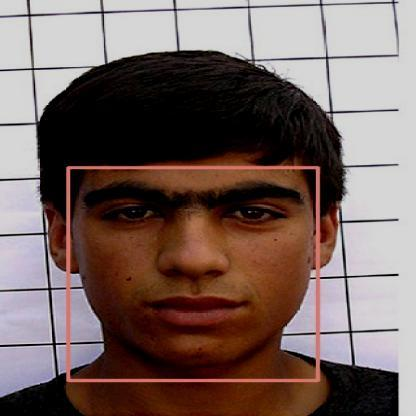without_mask: (68, 167, 317, 380)
